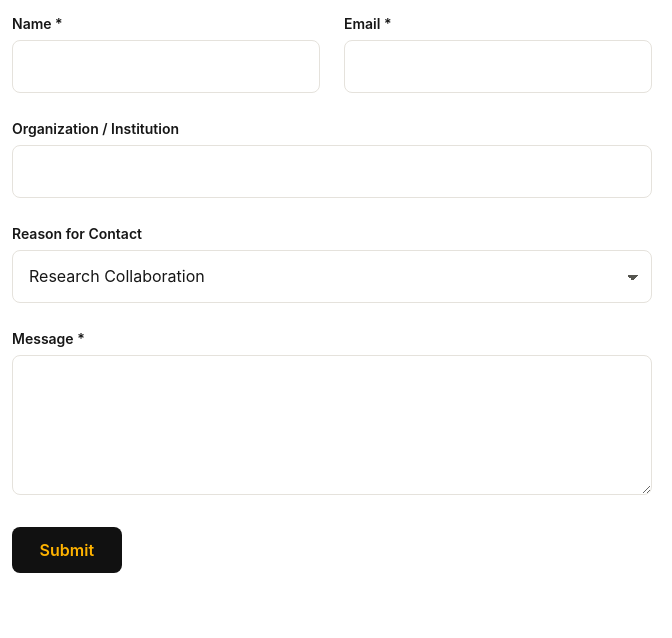
Test case: ContactForm › shows validation error for invalid email
The image size is (672, 638).
In the field labelled "Name *": (166, 66) [12,40,320,93], type "John Doe"
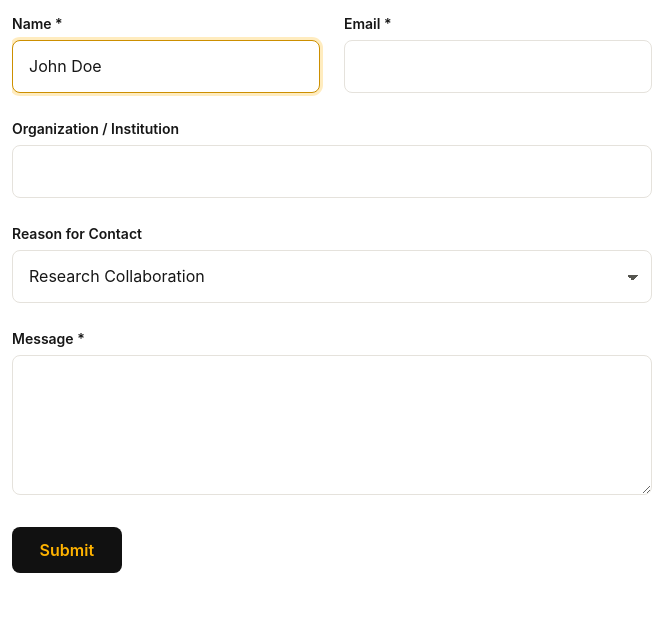
In the field labelled "Email *": (498, 66) [344,40,652,93], type "invalid-email"
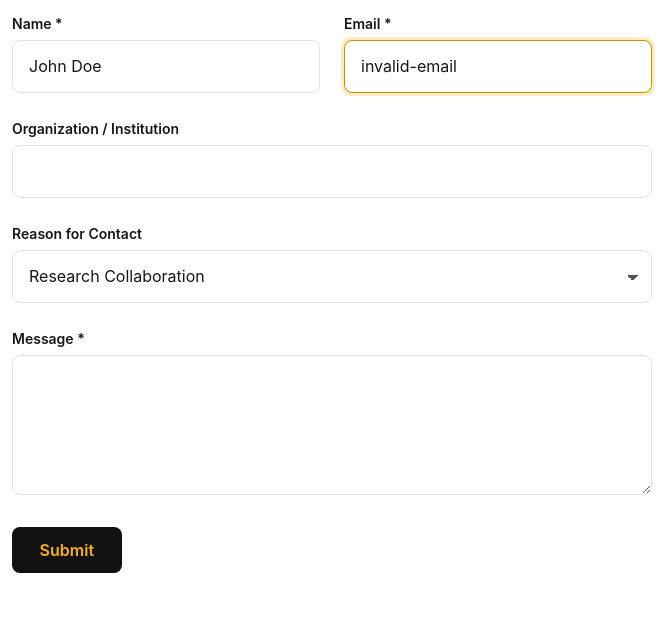
In the text box labelled "Message *": (332, 425) [12,355,652,495], type "Hello"
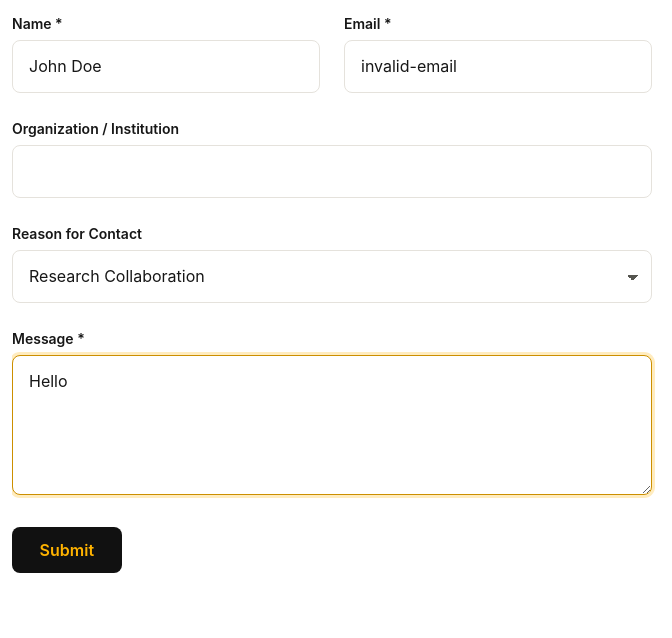
Click the button "Submit": (67, 550) [12,527,122,572]
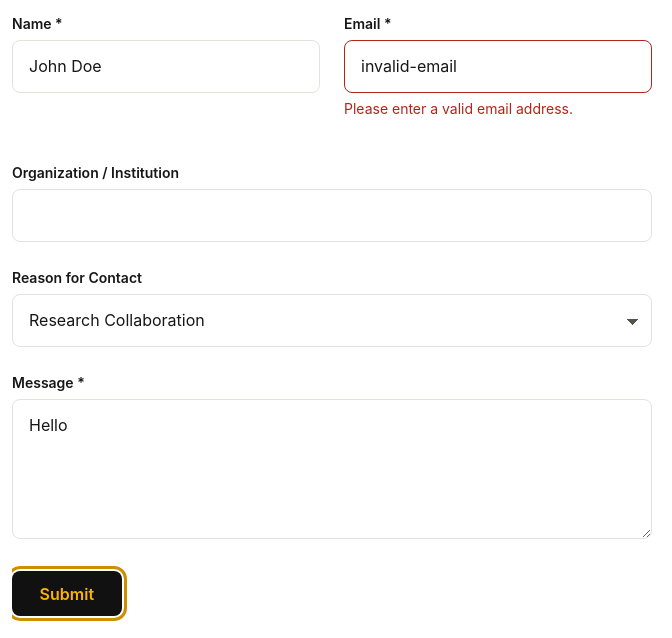
Expected: the text "Please enter a valid email address." is shown, [344,100,573,117]
